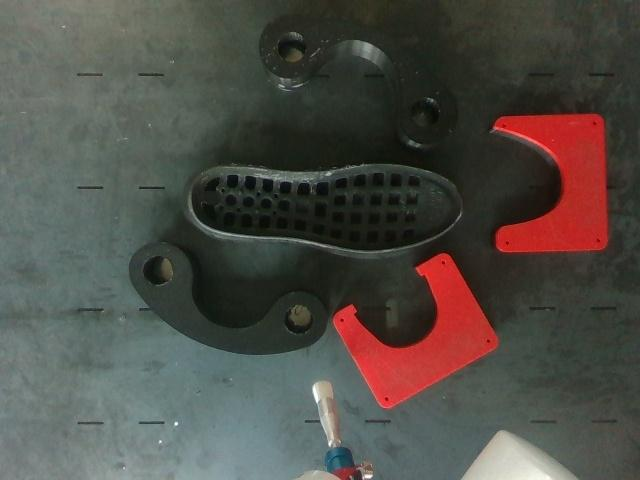shoes: (189, 166, 461, 253)
